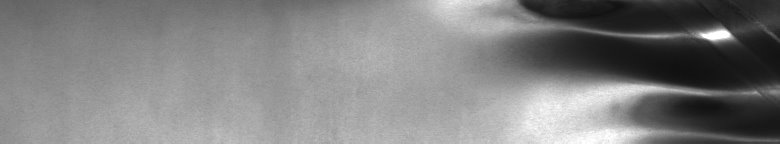ke: (493, 4, 776, 136)
